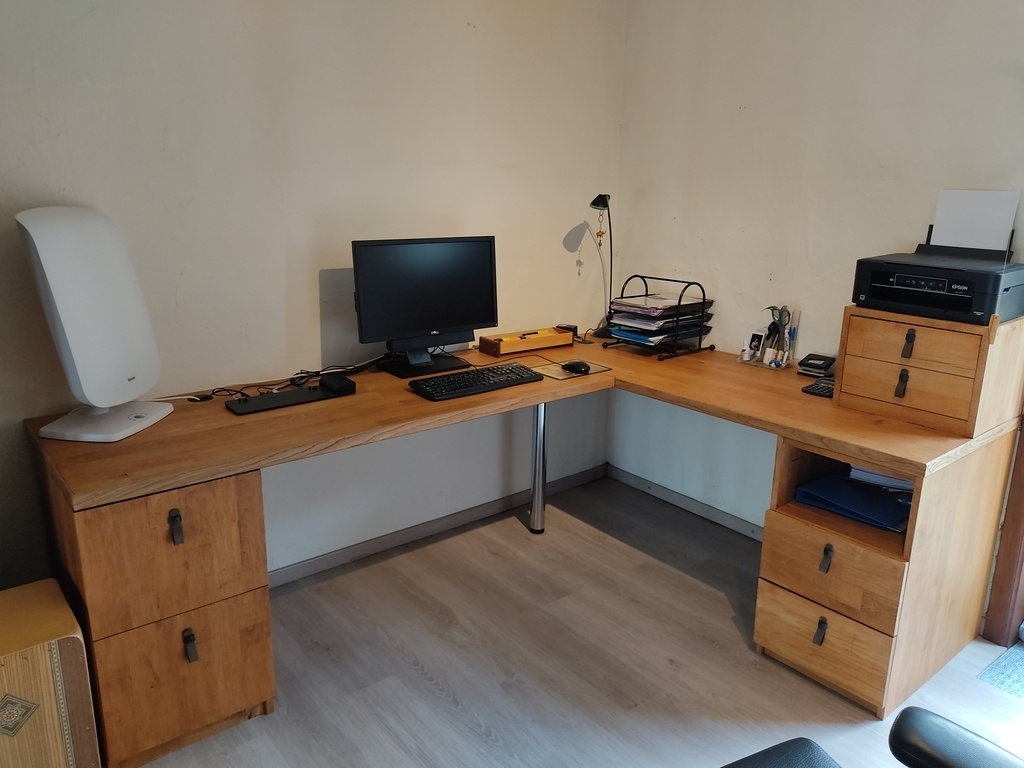Table: (198, 83, 430, 335)
